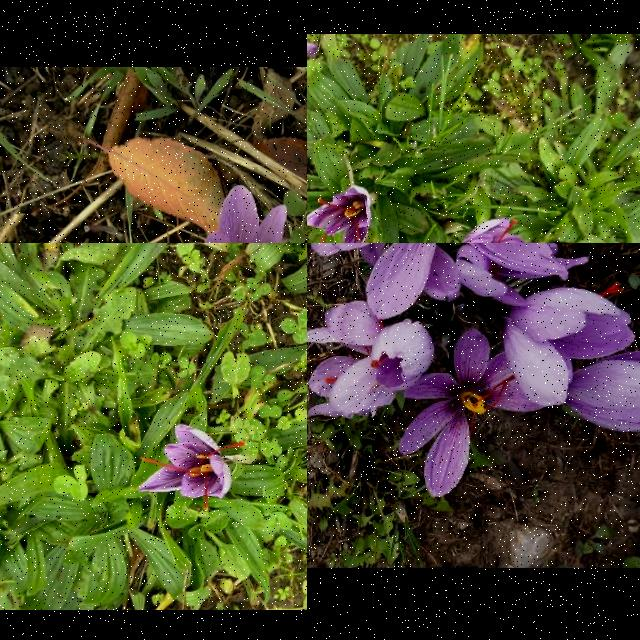flower: (399, 328, 545, 498), (504, 282, 636, 406), (136, 425, 244, 511), (183, 185, 307, 243), (569, 350, 640, 432), (370, 320, 434, 392), (307, 186, 370, 243), (456, 217, 546, 243)
overlap: (307, 243, 640, 497)
